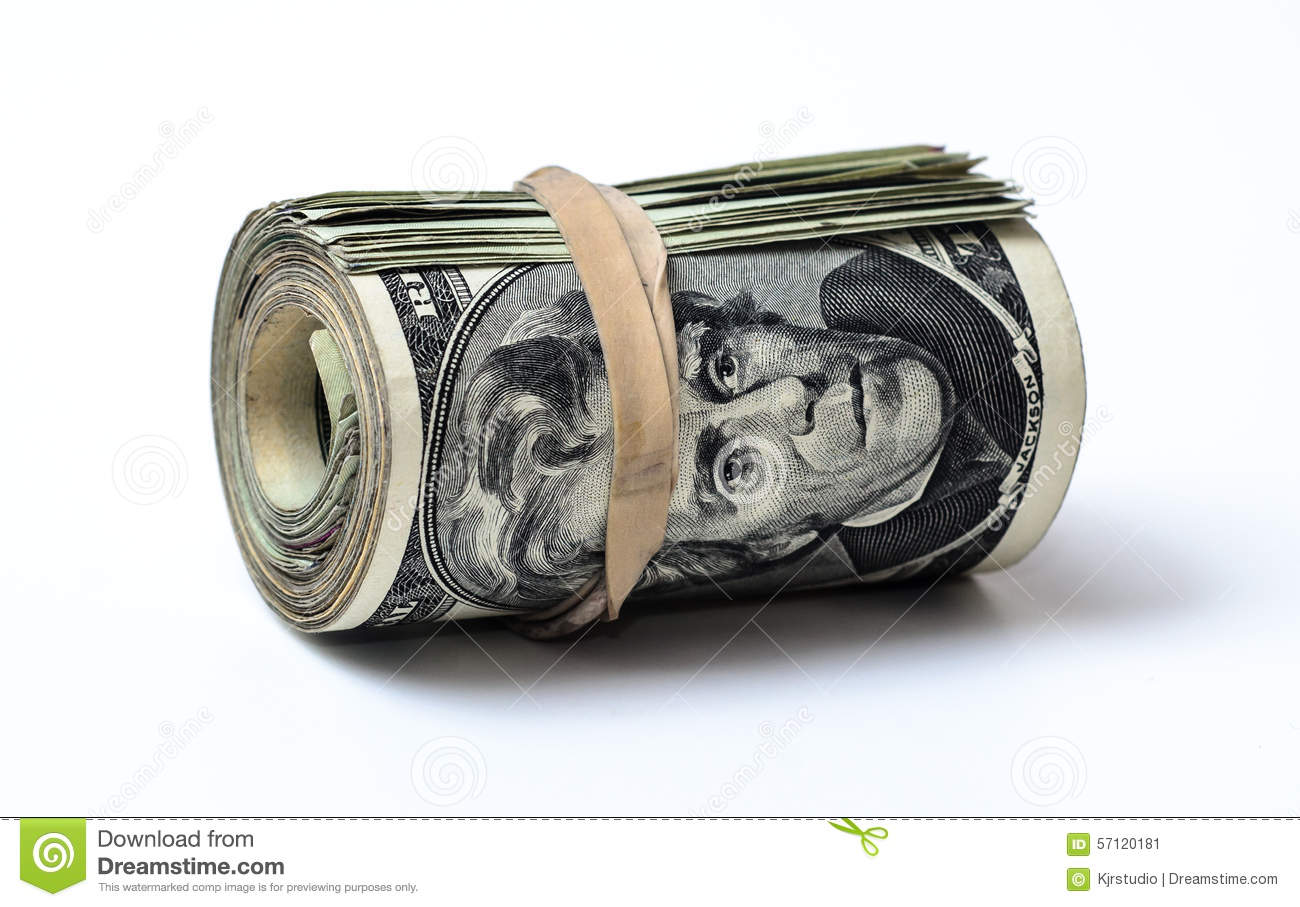billete: (205, 140, 1095, 647)
